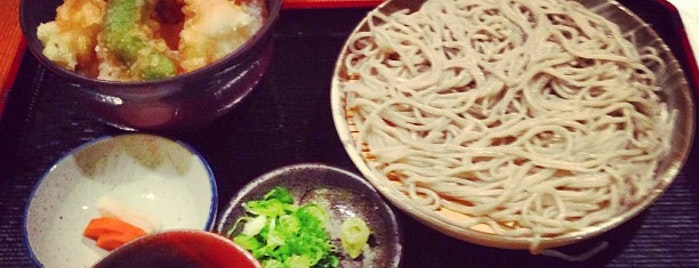Soba: (339, 2, 681, 234)
